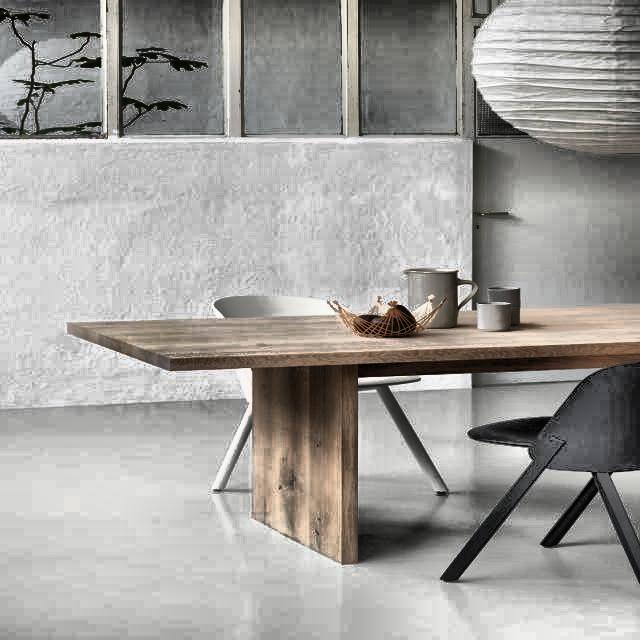mesa: (56, 282, 640, 584)
